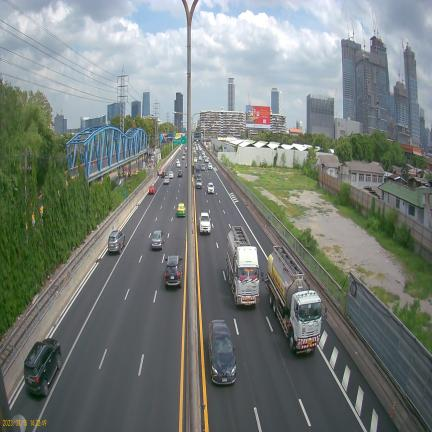car: (24, 339, 61, 396), (208, 319, 236, 384), (165, 255, 183, 288), (108, 231, 125, 254), (199, 212, 211, 234), (151, 230, 164, 249), (207, 182, 214, 194), (148, 184, 156, 194), (196, 177, 202, 188)
taxi: (177, 202, 185, 217)
truck: (265, 246, 322, 353), (226, 226, 259, 305)
